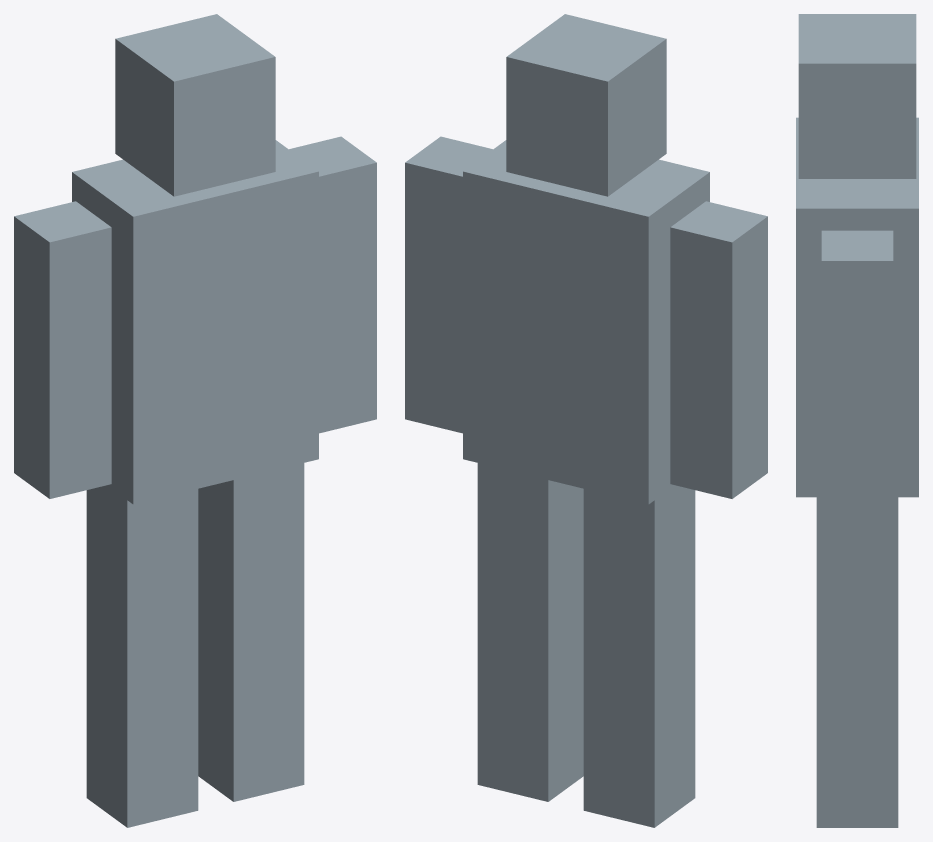
Rendered from draugr_deathlord.glb.
3 views of the same model, side by side, from view 1: azimuth 30°, elevation 25°; view 2: azimuth 150°, elevation 25°; view 3: azimuth 270°, elevation 25° (orthographic).
Visible parts, largest first — view 1: draugr_deathlord; view 2: draugr_deathlord; view 3: draugr_deathlord.
Boxes of the visible parts, bbox=[...] form: draugr_deathlord: bbox=[14, 14, 376, 827]; draugr_deathlord: bbox=[405, 14, 767, 827]; draugr_deathlord: bbox=[796, 14, 918, 827].
Size of the model in its own units: 0.851 by 1.85 by 0.276.
